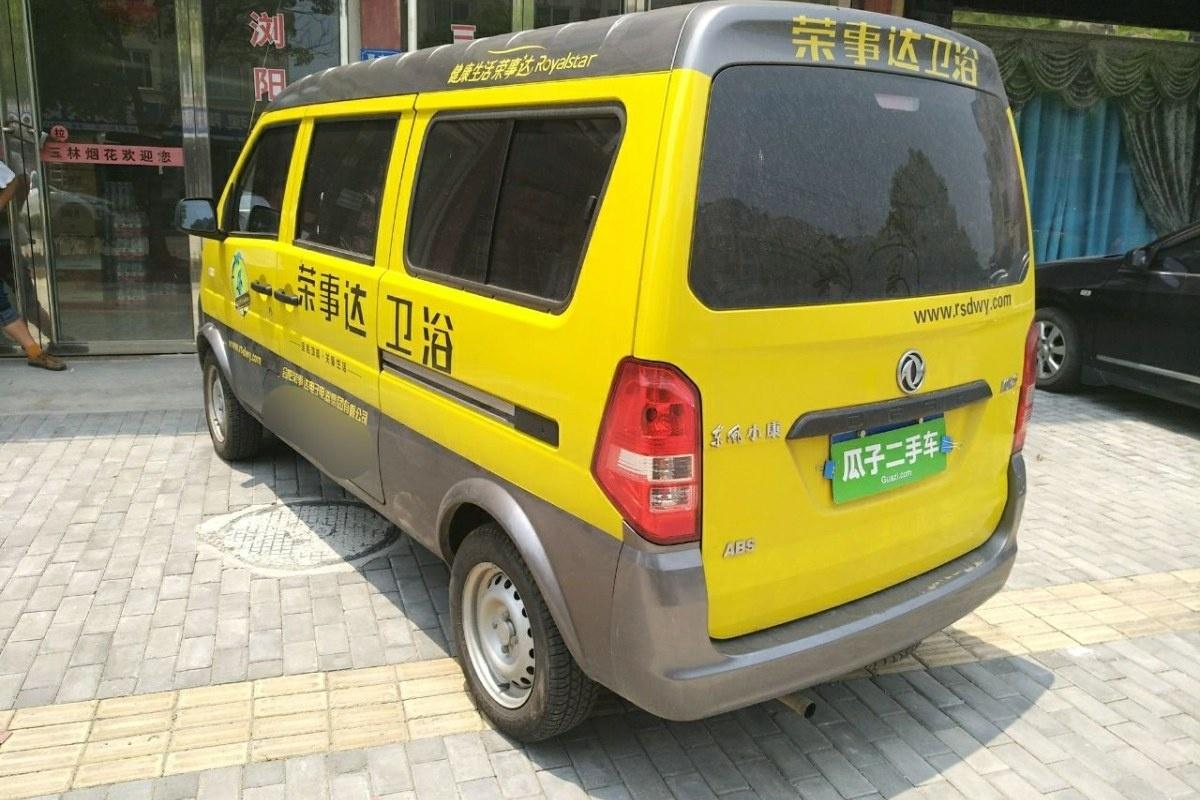minibus: (162, 27, 1053, 757)
